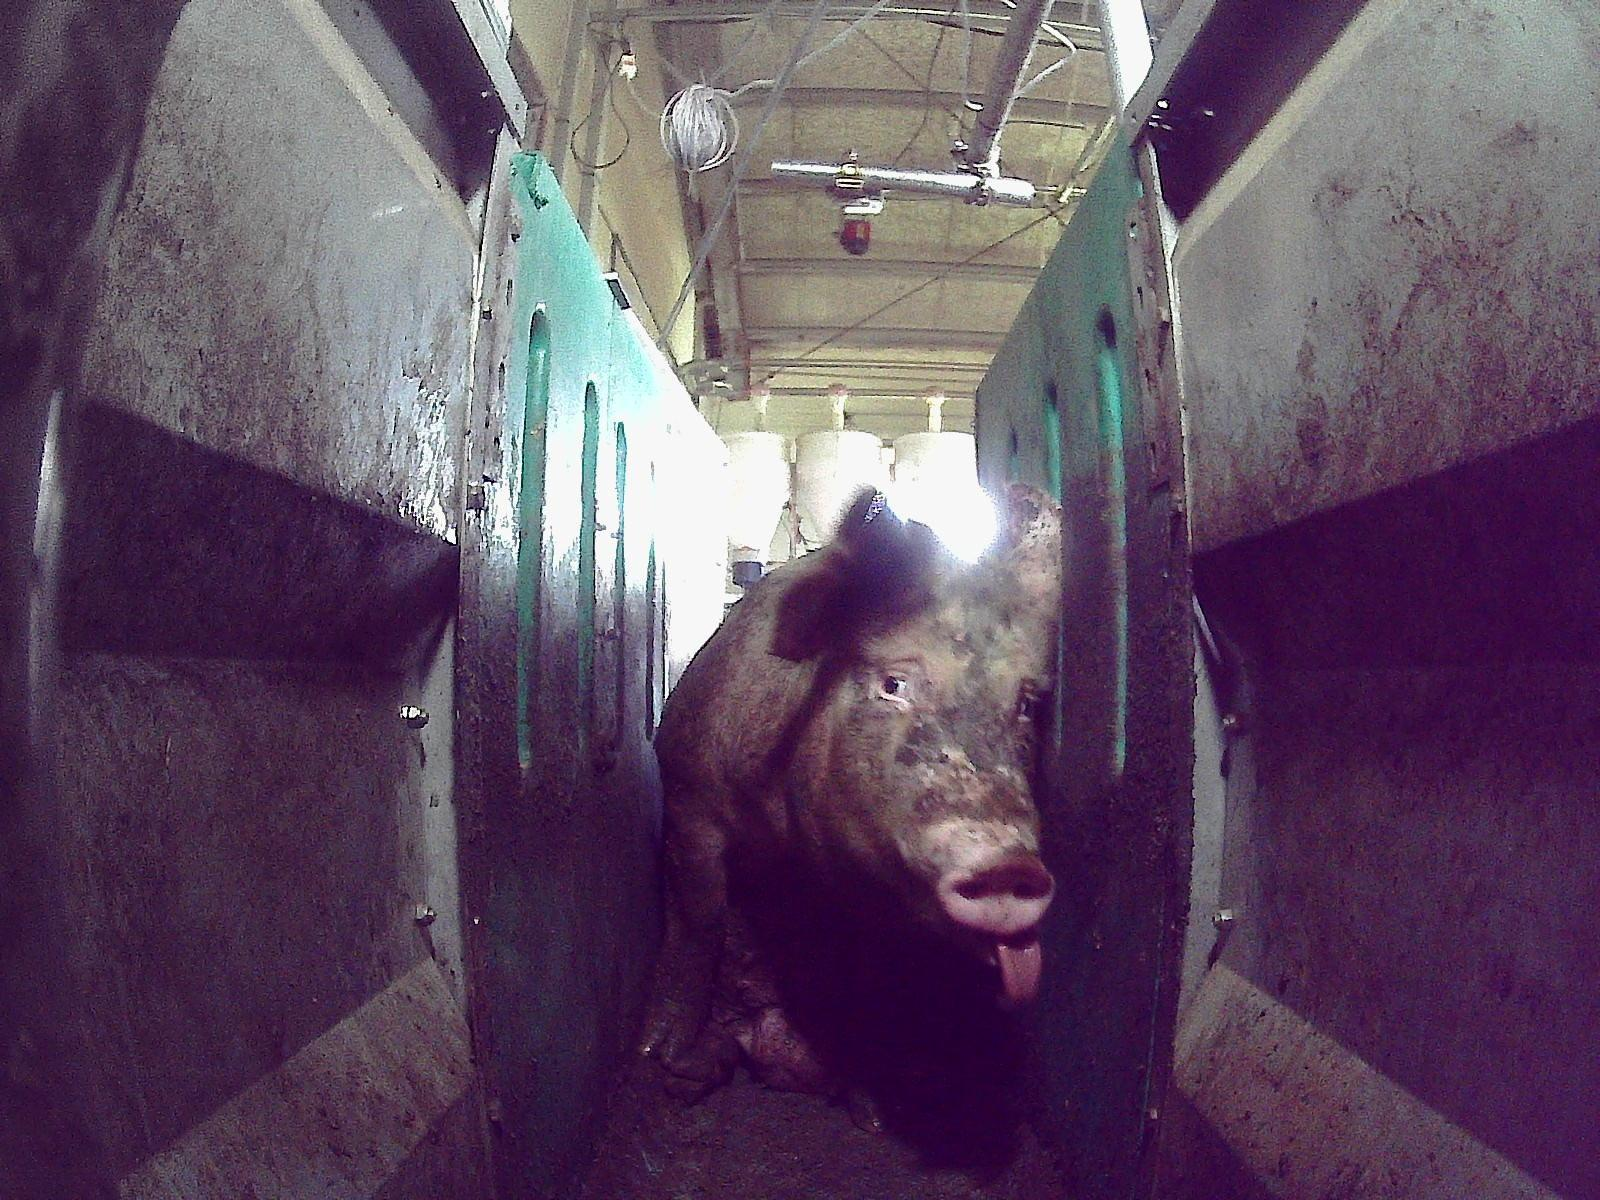Face: (797, 570, 1053, 1006)
